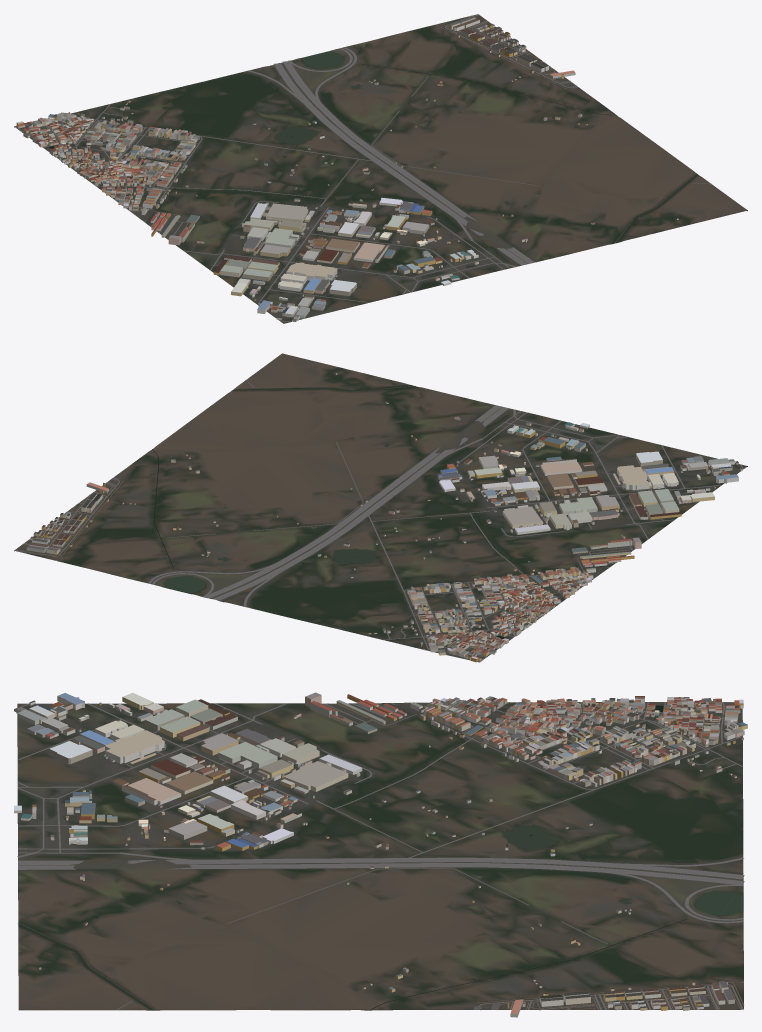
3 views of the same model, one above another, from view 1: azimuth 30°, elevation 25°; view 2: azimuth 150°, elevation 25°; view 3: azimuth 270°, elevation 25° (orthographic). The views are drawn at different scales.
Parts seen in each view (by area): view 1: ground, buildings, roads, water; view 2: ground, buildings, roads, water; view 3: ground, buildings, roads, water.
Boxes of the visible parts, <box> form: ground: <box>14,14,747,323</box>; buildings: <box>16,16,678,321</box>; roads: <box>15,14,711,322</box>; water: <box>49,51,697,243</box>; ground: <box>14,353,747,662</box>; buildings: <box>26,373,742,662</box>; roads: <box>14,380,743,662</box>; water: <box>152,384,506,639</box>; ground: <box>17,702,743,1010</box>; buildings: <box>14,692,747,1017</box>; roads: <box>17,702,744,1010</box>; water: <box>18,705,743,1010</box>.
Size of the model in its own units: 1460 by 24.52 by 1418.
